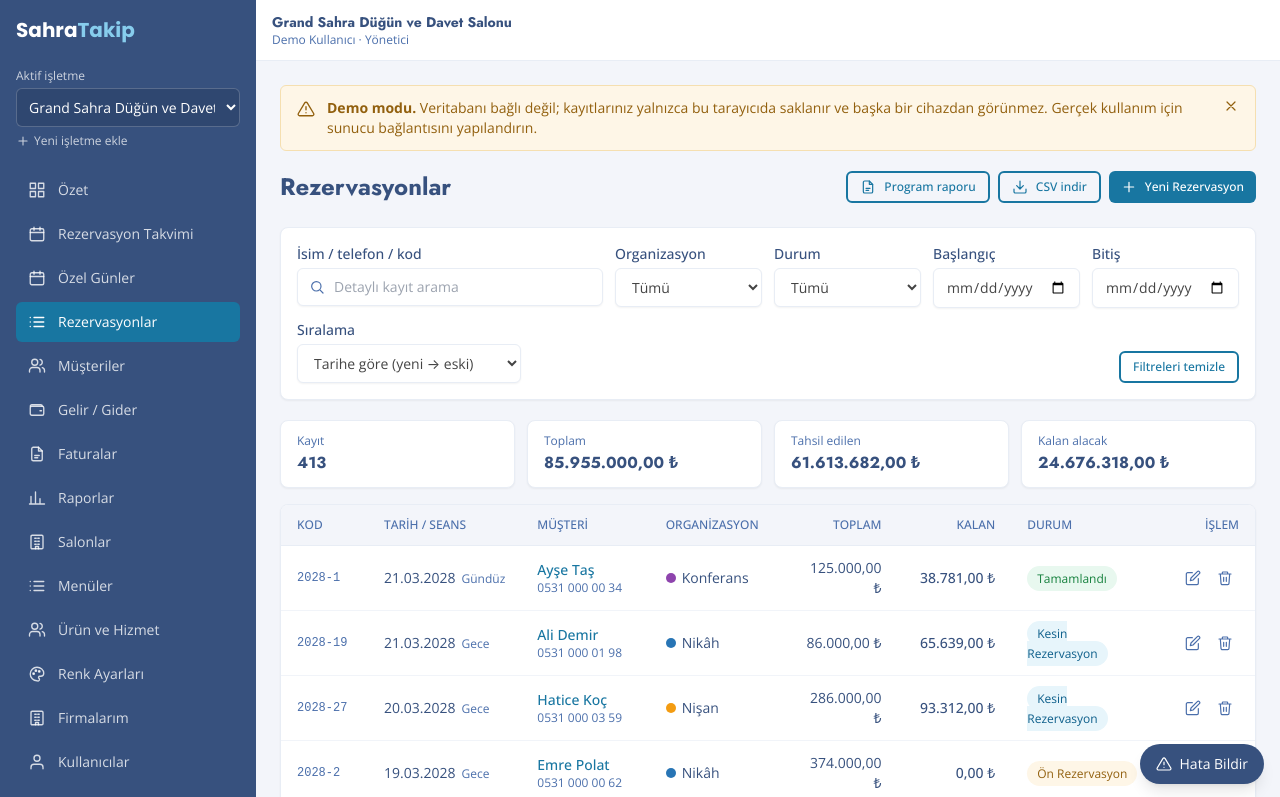
it: Rezervasyon listesi › isim araması listeyi daraltır
Type "Ahmet" into the search field labelled "İsim / telefon / kod".
click(450, 287); type("Ahmet")  # box left=297, top=268, right=603, bottom=306
(page scrolled)
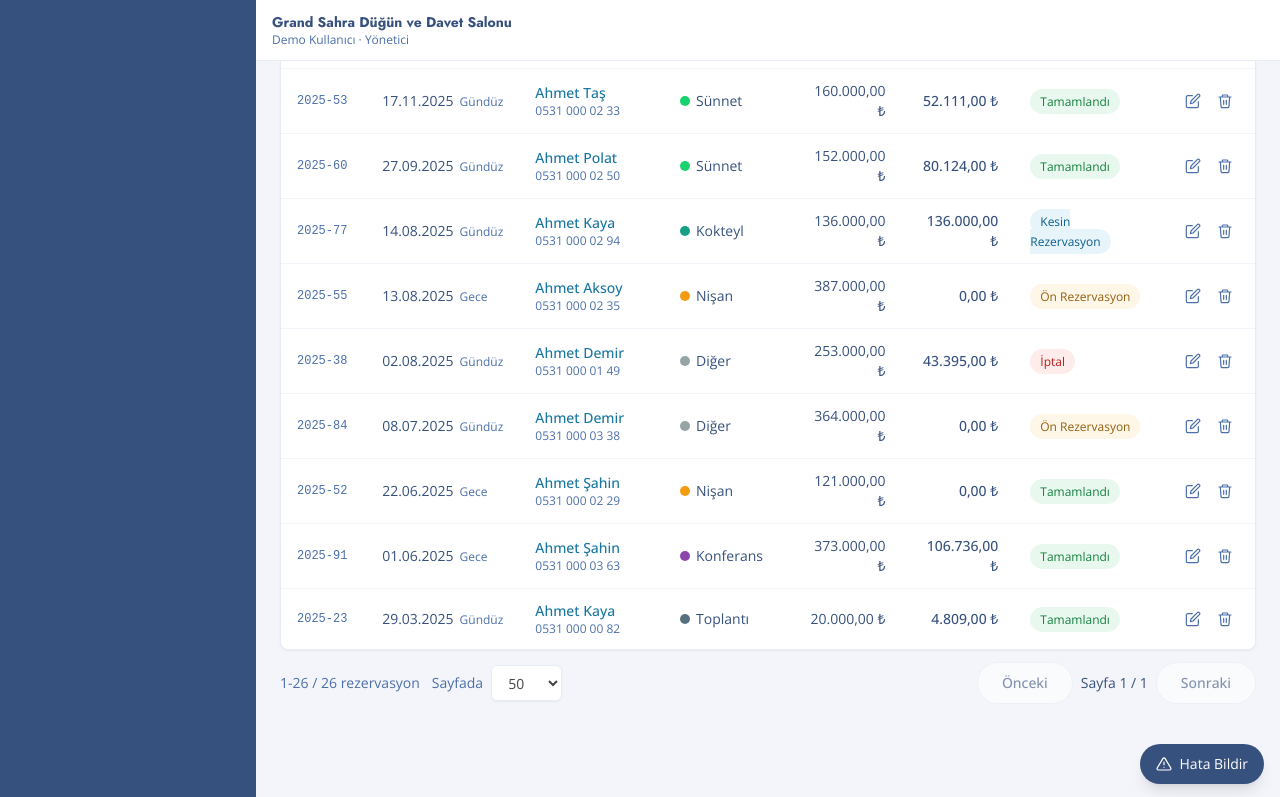
Result: the 1st row shows "Ahmet" at left=535, top=83, right=606, bottom=102
Result: the 2nd row shows "Ahmet" at left=535, top=148, right=617, bottom=167
Result: the 3rd row shows "Ahmet" at left=535, top=213, right=615, bottom=232
